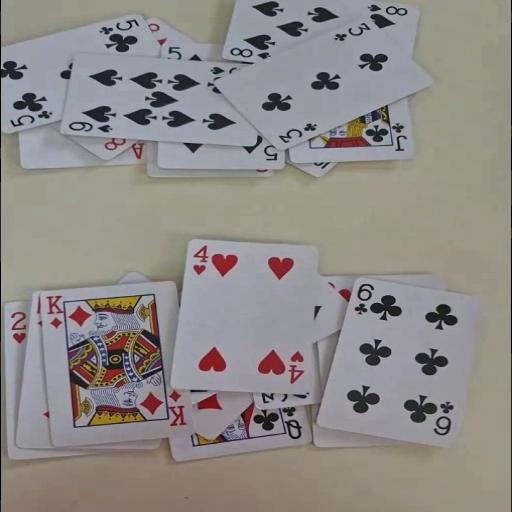2: (8, 310, 30, 344)
3: (275, 121, 319, 144), (333, 20, 373, 42)
4: (286, 349, 306, 385), (190, 243, 210, 276)
5: (7, 109, 54, 128), (96, 17, 140, 35)
6: (430, 399, 456, 436), (351, 282, 376, 316)
8: (365, 2, 410, 16), (227, 46, 272, 60), (102, 136, 128, 151)
9: (66, 120, 112, 132)
J: (388, 120, 408, 152)
K: (164, 388, 188, 426), (44, 293, 65, 329)
